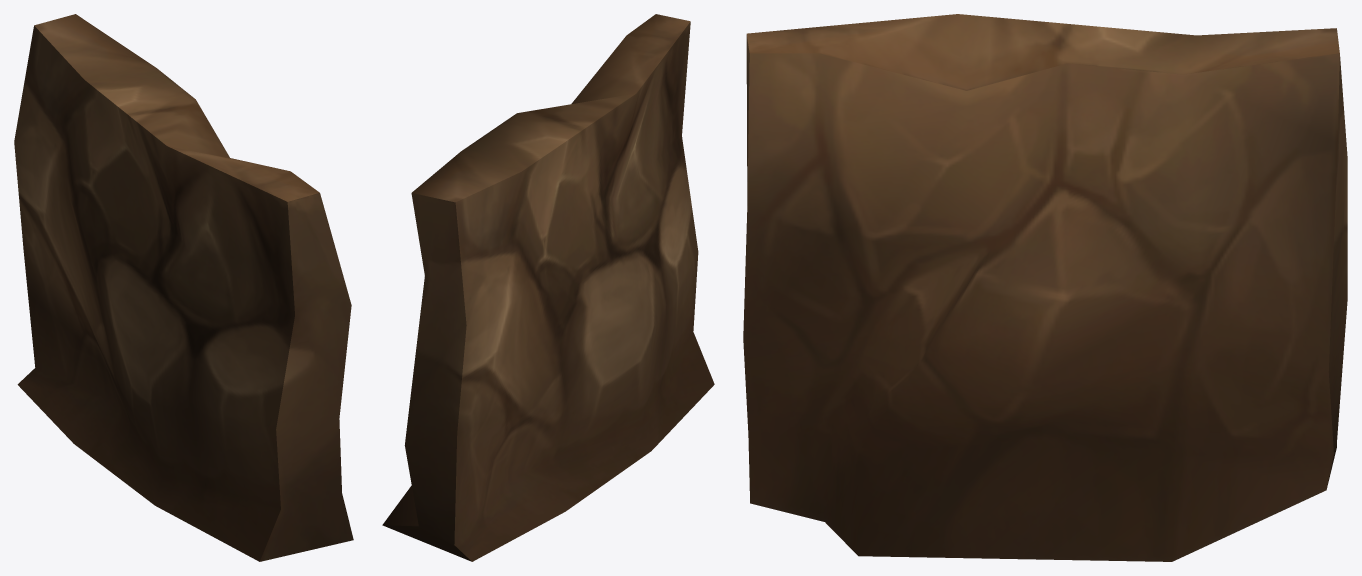
The model's file is Wall_cave_03.fbx.
3 views of the same model, side by side, from view 1: azimuth 30°, elevation 25°; view 2: azimuth 150°, elevation 25°; view 3: azimuth 270°, elevation 25° (orthographic). The views are drawn at different scales.
Parts seen in each view (by area): view 1: Wall_cave_03; view 2: Wall_cave_03; view 3: Wall_cave_03.
Part boxes in pixels (x1,y1,x2,y2): Wall_cave_03: [14, 14, 353, 561]; Wall_cave_03: [382, 14, 714, 561]; Wall_cave_03: [743, 14, 1347, 561].
Bounding box in the file's own units: 165 × 376 × 431.
